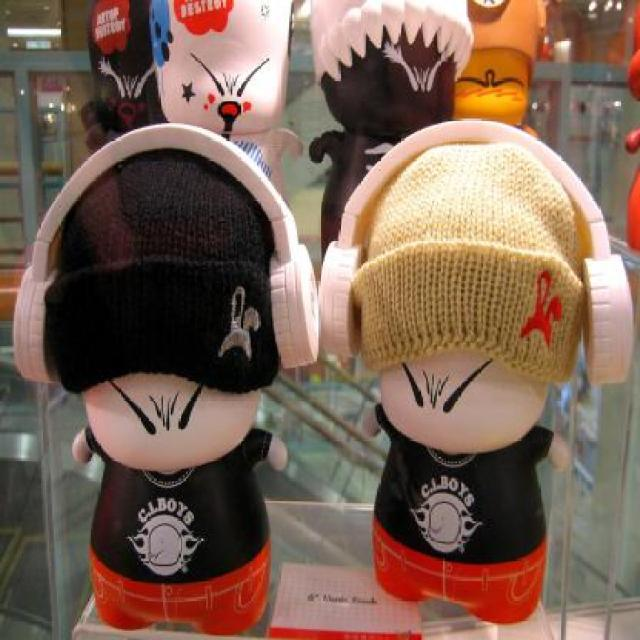earphone: (8, 124, 334, 381)
laptop_computer: (308, 106, 640, 397)
